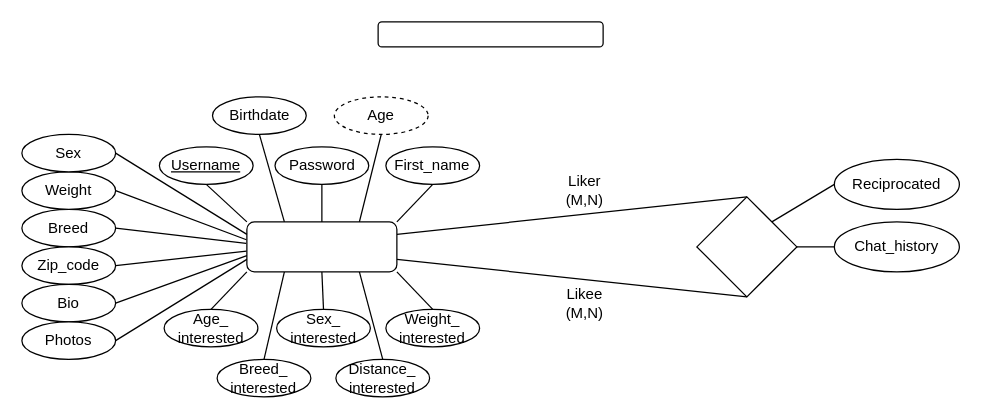
This 981x419 diagram has some shape labels left out. The centre of each missing label's shape, as x and y in pixels:
"DOG" belongs at point (321, 246).
"DoggyDate Database ERD" belongs at point (490, 34).
"MATCHES" belongs at point (746, 246).
